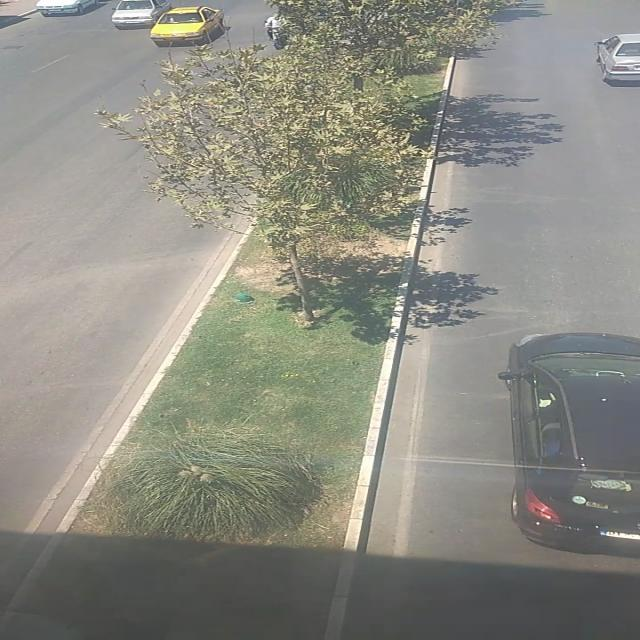car: (496, 332, 639, 554), (150, 6, 225, 46), (593, 34, 640, 82), (112, 0, 171, 29), (33, 0, 100, 15)
